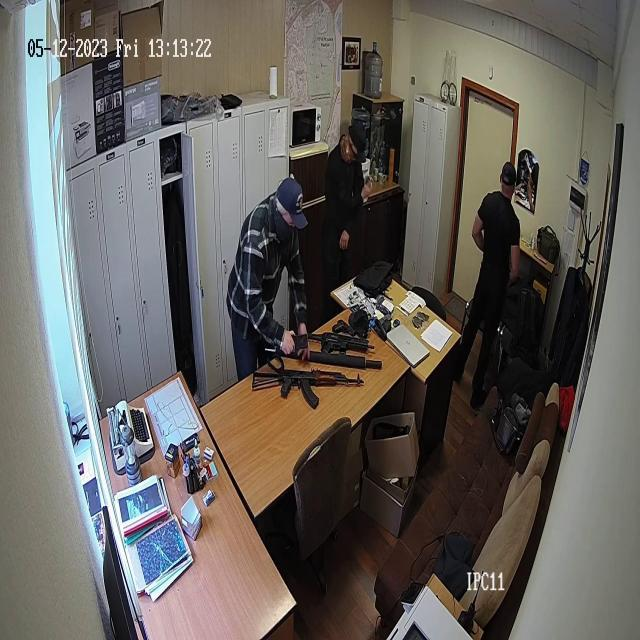pistol: (250, 371, 366, 406), (308, 330, 376, 356), (331, 316, 356, 336)
